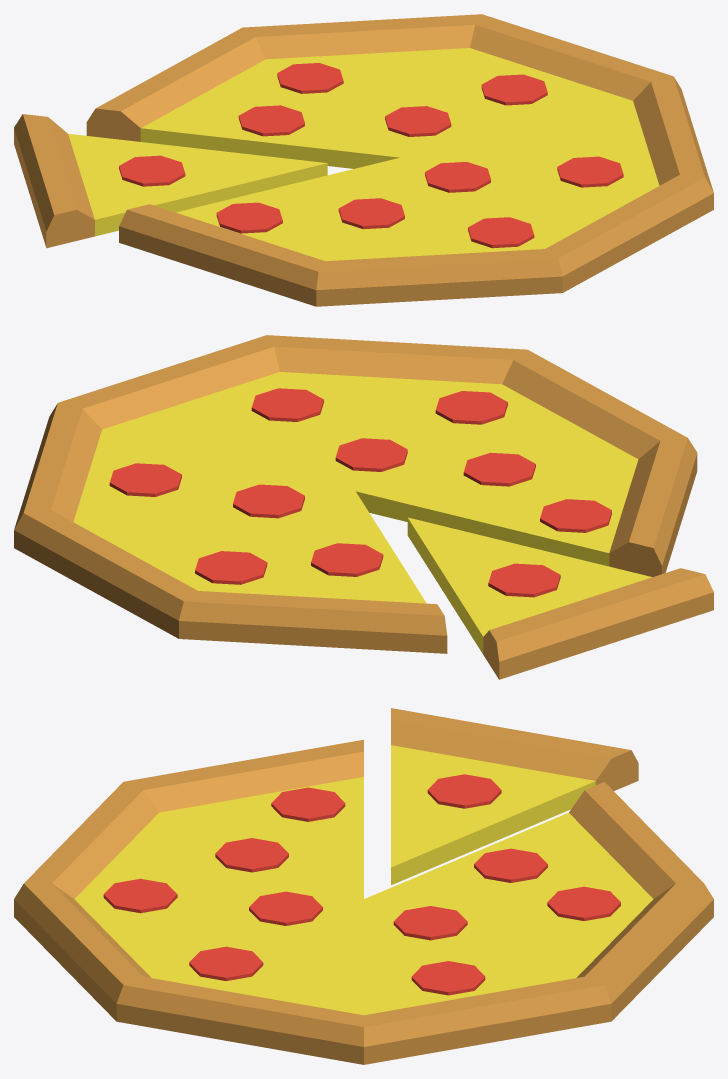
File: Pizza.glb
3 renders of one model, top to bottom at view 1: azimuth 30°, elevation 25°; view 2: azimuth 150°, elevation 25°; view 3: azimuth 270°, elevation 25°, orthographic. The views are drawn at different scales.
Visible parts, largest first — view 1: node-0; view 2: node-0; view 3: node-0.
Part boxes in pixels (left/top/right/bottom): node-0: left=14, top=14, right=713, bottom=306; node-0: left=14, top=335, right=713, bottom=679; node-0: left=14, top=708, right=713, bottom=1064.
Size of the model in its own units: 16.05 by 0.7687 by 14.5.
